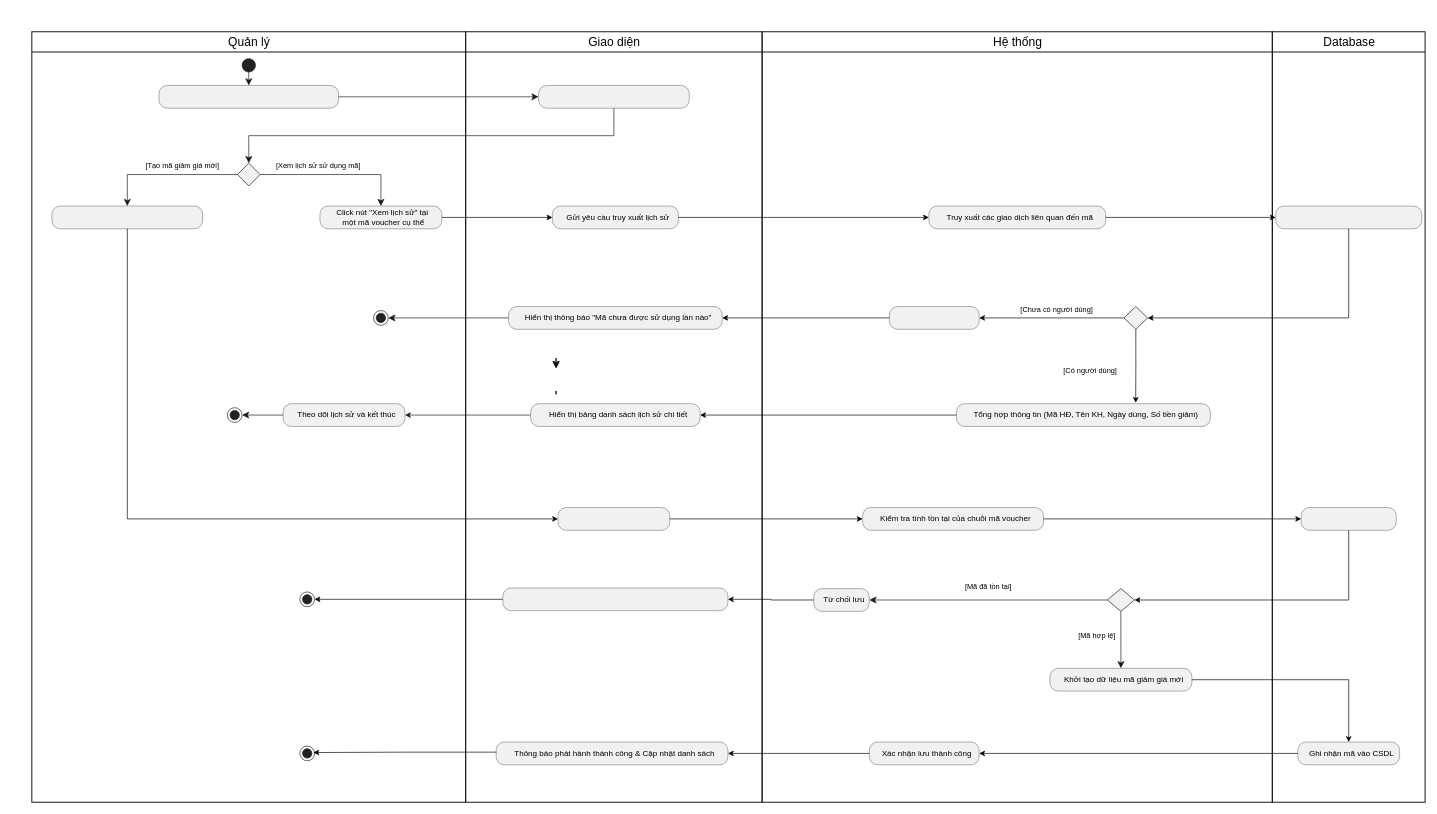
This 1437x814 diagram has some shape labels left out. The shapes that lost their labels are listed below. From the top down, each one's centre as x and y in pixels, then its label:
[248,96]: Truy cập chức năng "Quản lý mã giảm giá"
[613,96]: Hiển thị giao diện quản lý Voucher
[127,217]: Nhập chuỗi mã, điều kiện áp dụng , hạn sử dụng & Nhấn "Lưu"
[1348,217]: Tìm kiếm hóa đơn đã áp dụng mã
[934,317]: Trả về kết quả rỗng
[614,518]: Gửi dữ liệu phát hành mã
[1348,518]: Truy vấn mã voucher
[615,599]: Báo lỗi "Mã voucher đã tồn tại, vui lòng nhập mã khác"
